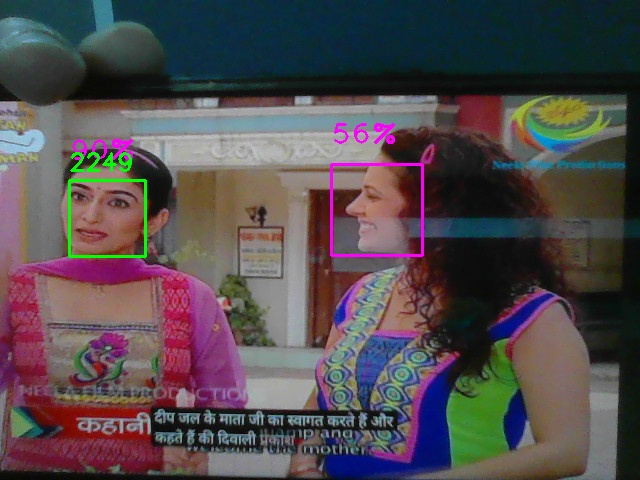fake: (69, 180, 146, 257)
